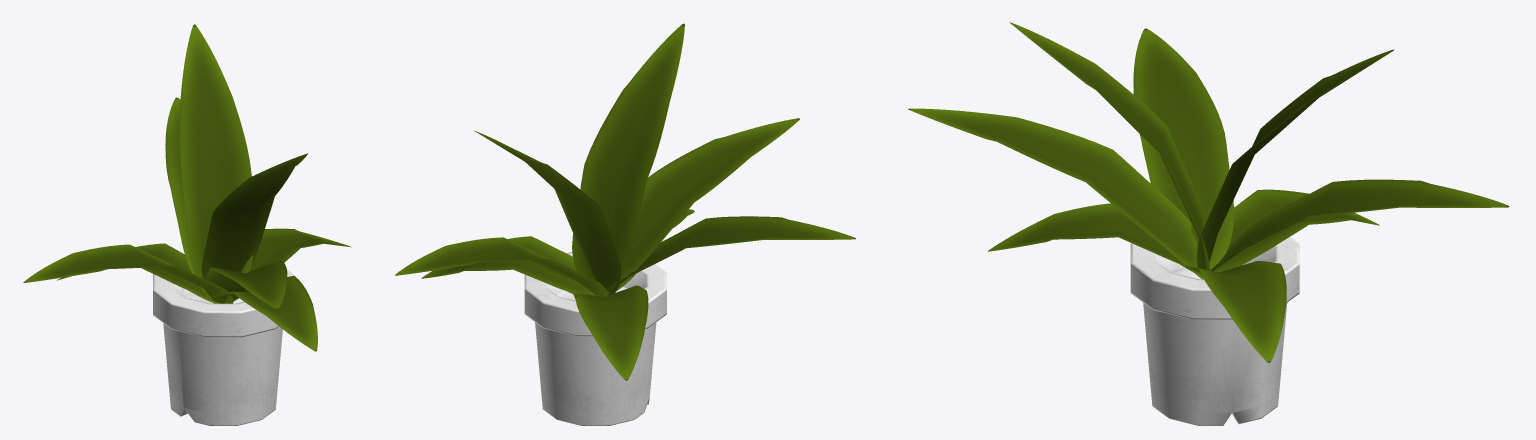
File: Plant_F.fbx
The picture shows the model from 3 angles, left to right: view 1: azimuth 30°, elevation 25°; view 2: azimuth 150°, elevation 25°; view 3: azimuth 270°, elevation 25°; orthographic projection. The views are drawn at different scales.
Visible parts, largest first — view 1: U_Plant_F; view 2: U_Plant_F; view 3: U_Plant_F.
Part boxes in pixels (x1,y1,x2,y2): U_Plant_F: (23,24,351,425); U_Plant_F: (395,23,855,425); U_Plant_F: (908,22,1509,425).
Bounding box in the file's own units: 109 × 84.74 × 125.
Materials: 3 (3 with a texture image).
